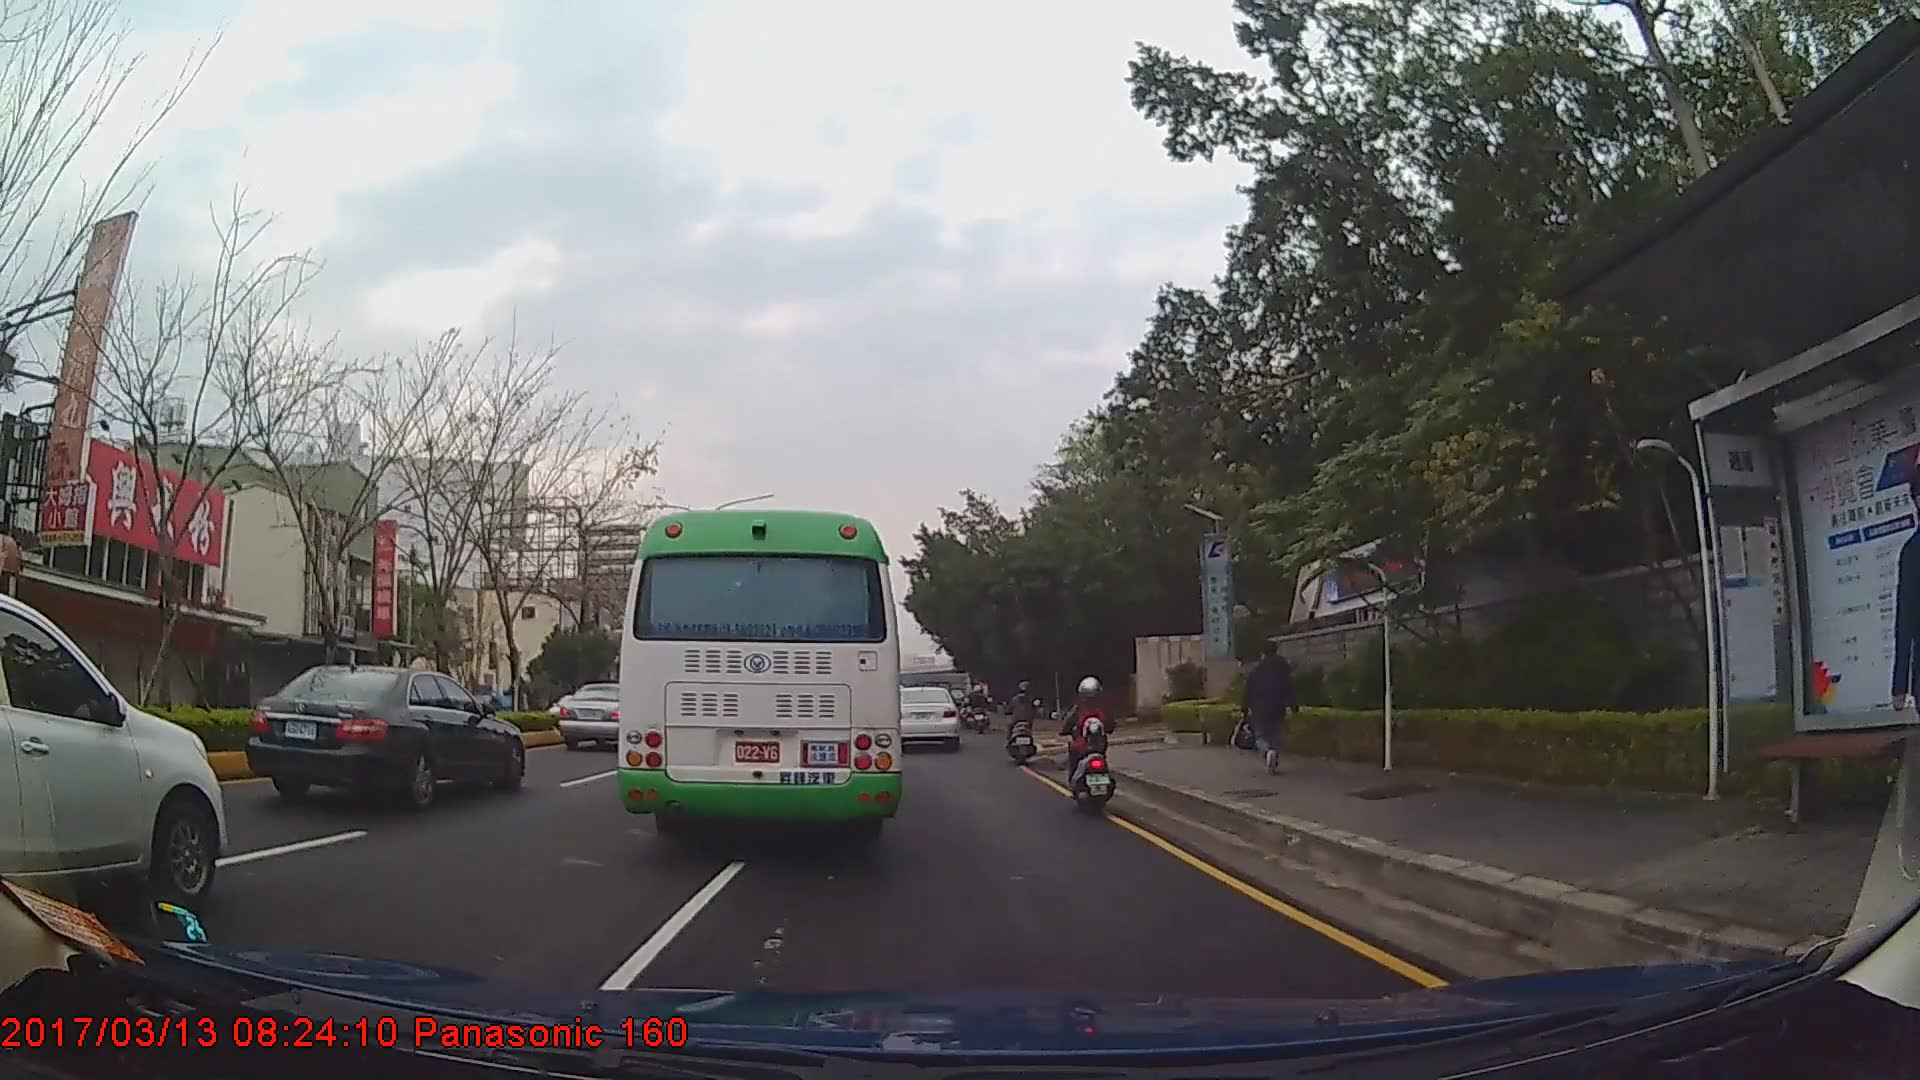pedestrian: (1236, 636, 1305, 776)
rider: (1066, 675, 1119, 806), (1007, 673, 1043, 759), (970, 683, 990, 719)
vehicle: (615, 508, 901, 853), (0, 590, 228, 911), (246, 660, 525, 807), (557, 677, 649, 748), (899, 684, 961, 750)
